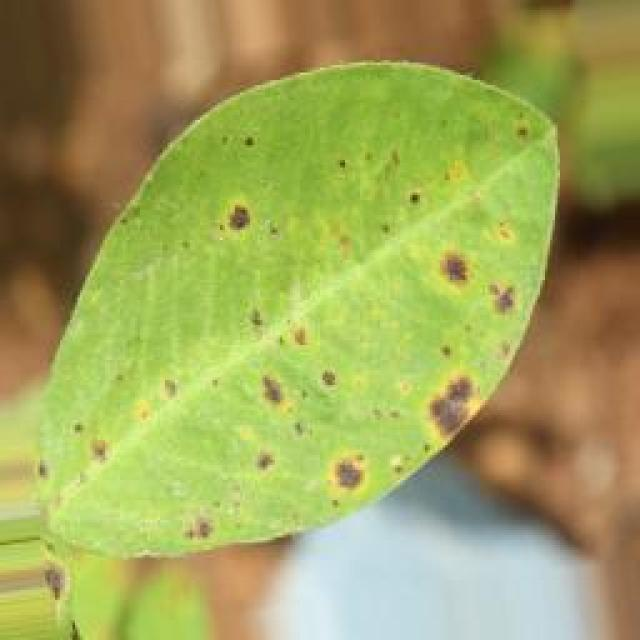Yellowish: (43, 70, 595, 636)
